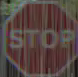Stop: (5, 3, 73, 60)
